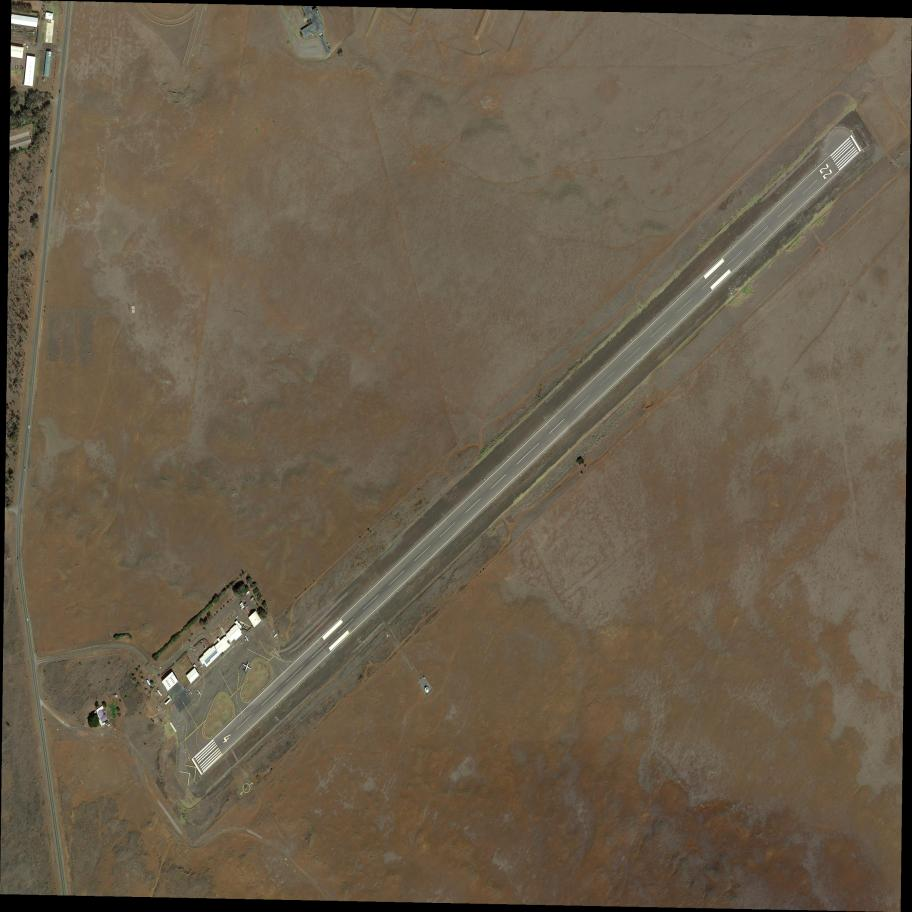large-vehicle: (245, 590, 251, 595), (240, 605, 246, 610), (238, 602, 244, 607), (249, 597, 254, 602)
plane: (240, 659, 254, 675), (194, 688, 203, 698), (242, 634, 251, 644), (186, 689, 194, 697)
small-vehicle: (25, 45, 29, 51), (328, 45, 332, 50), (106, 724, 111, 728), (156, 707, 160, 712), (199, 641, 204, 645), (326, 42, 330, 47), (58, 89, 61, 94), (26, 617, 29, 622), (27, 425, 30, 429), (105, 722, 109, 725), (235, 615, 238, 619), (15, 65, 17, 70), (17, 65, 19, 70), (50, 170, 52, 175), (24, 466, 26, 471), (246, 605, 249, 608), (244, 601, 247, 604), (17, 557, 19, 561), (22, 67, 24, 70), (21, 65, 22, 70), (204, 645, 205, 650)
storage-tank: (425, 687, 430, 693)
